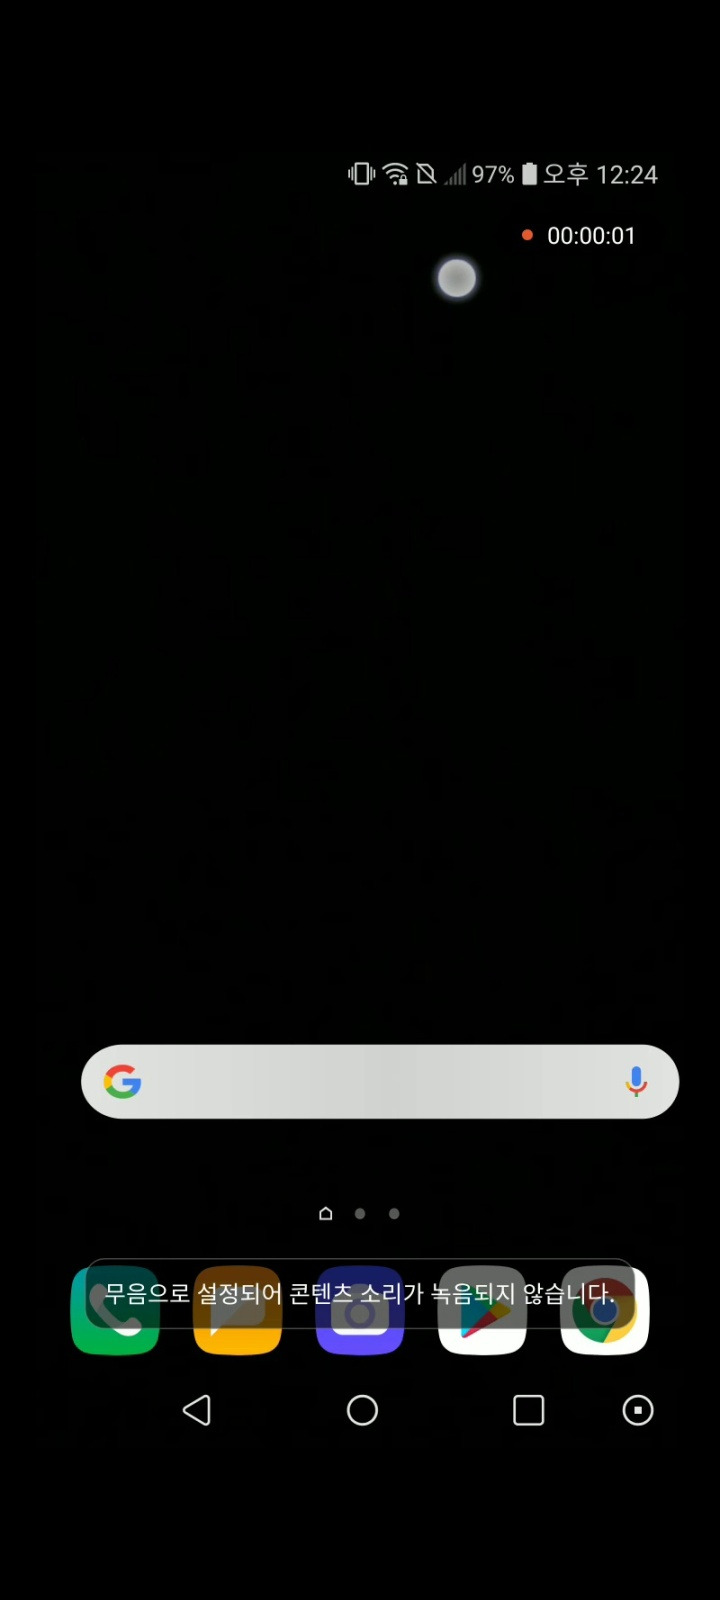Cursor: (434, 257, 479, 302)
